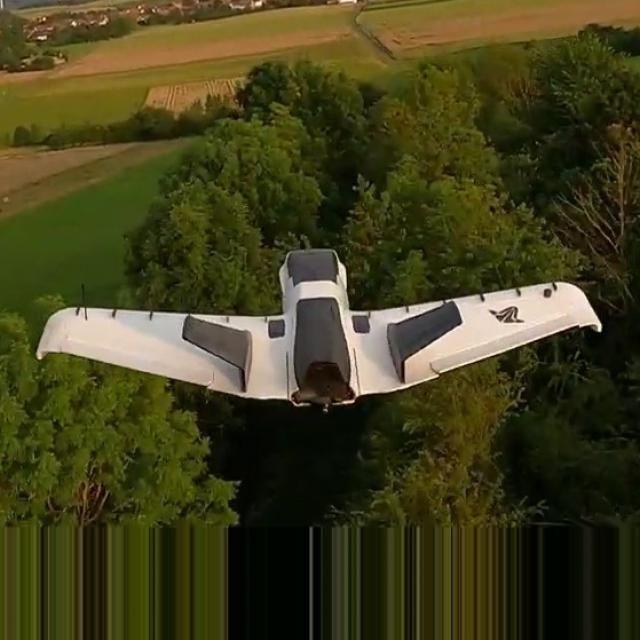iha: (35, 242, 606, 399)
